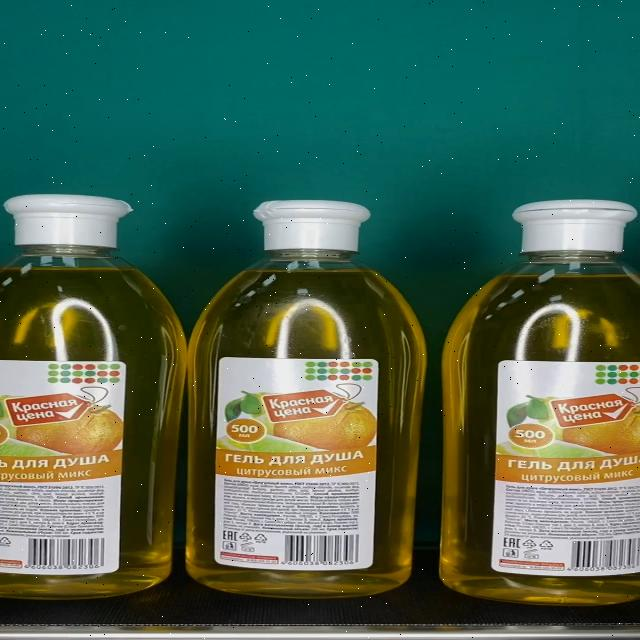Bottle: (188, 201, 428, 597), (440, 200, 640, 604), (0, 195, 187, 600)
Cap: (510, 200, 636, 254), (4, 195, 133, 247), (253, 201, 370, 251)
